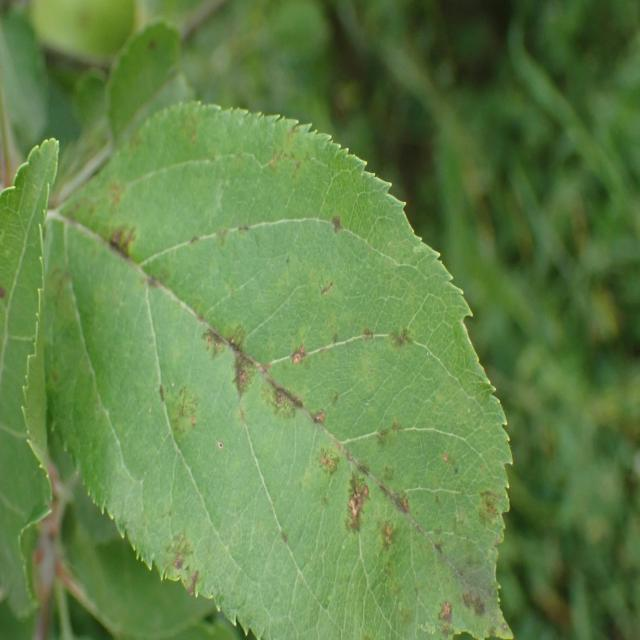scab: (34, 103, 526, 640)
